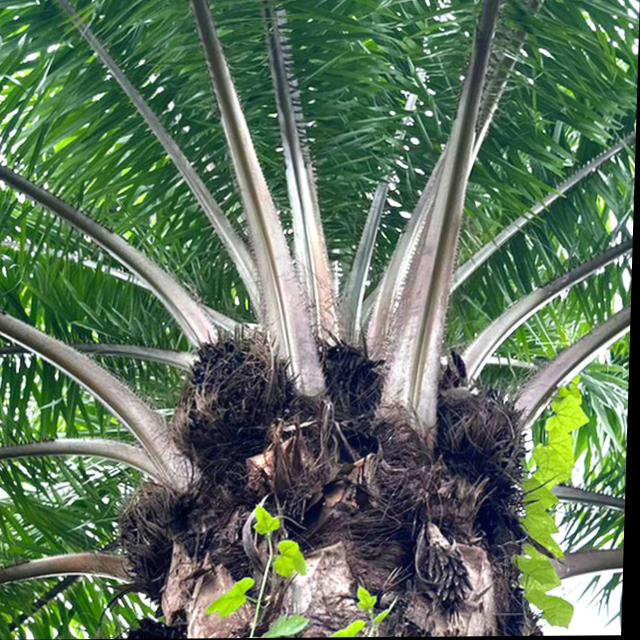unripe: (166, 320, 310, 474)
